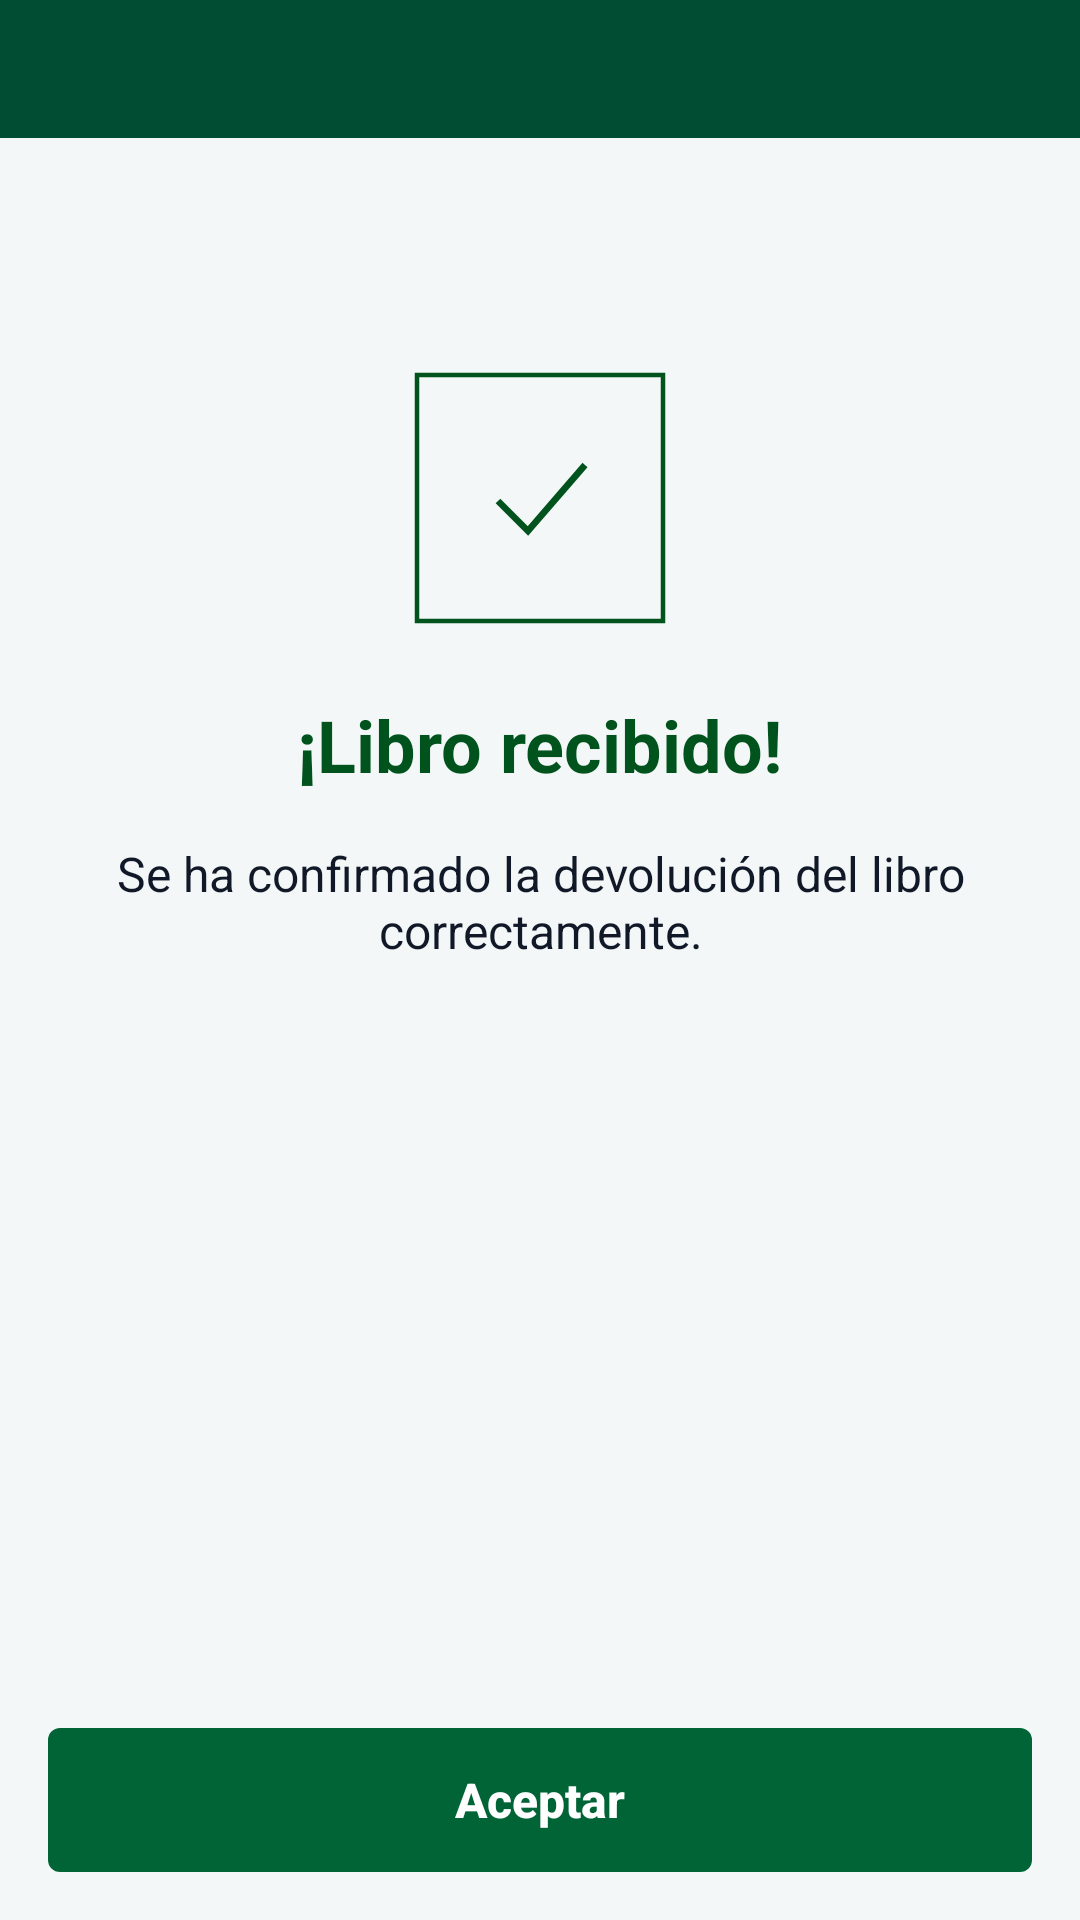

Screen size 1080x1920. Icon name, then its box in pixels as rect(x1, y1, x2, y2):
cbta exito: rect(414, 372, 666, 624)
